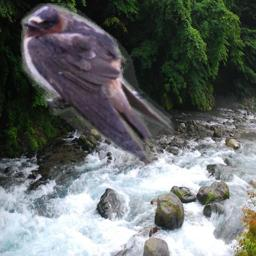Swallow: (19, 3, 174, 166)
